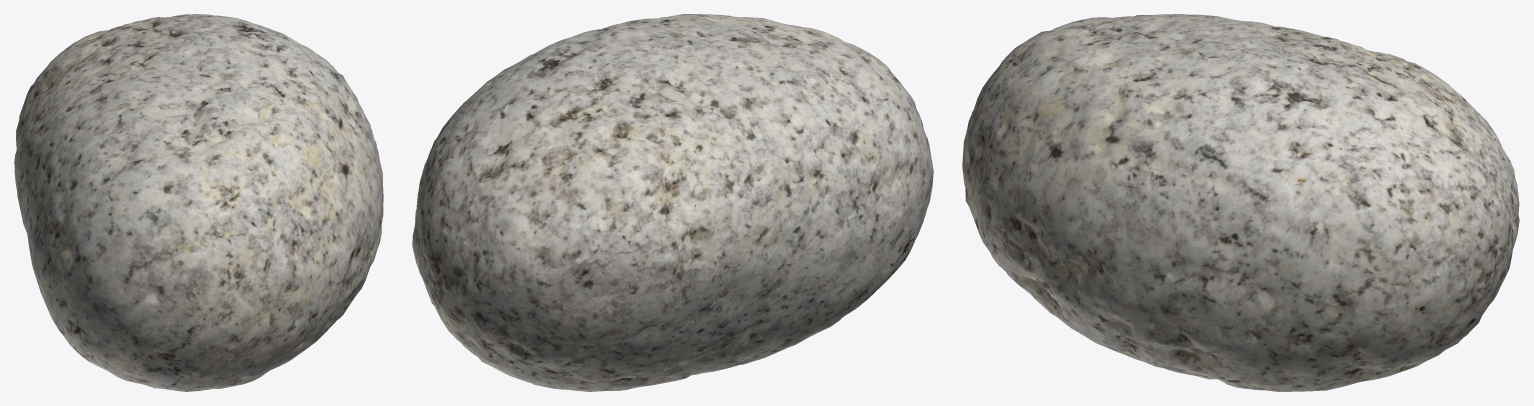
3 renders of one model, left to right at view 1: azimuth 30°, elevation 25°; view 2: azimuth 150°, elevation 25°; view 3: azimuth 270°, elevation 25°, orthographic. The views are drawn at different scales.
Visible parts, largest first — view 1: rock-002; view 2: rock-002; view 3: rock-002.
Part boxes in pixels (box(x1,y1,x2,y2)): rock-002: box(14, 14, 383, 391); rock-002: box(412, 14, 933, 391); rock-002: box(962, 14, 1519, 391).
Size of the model in its own units: 1.62 by 1.27 by 2.
1 material, 1 textured.
